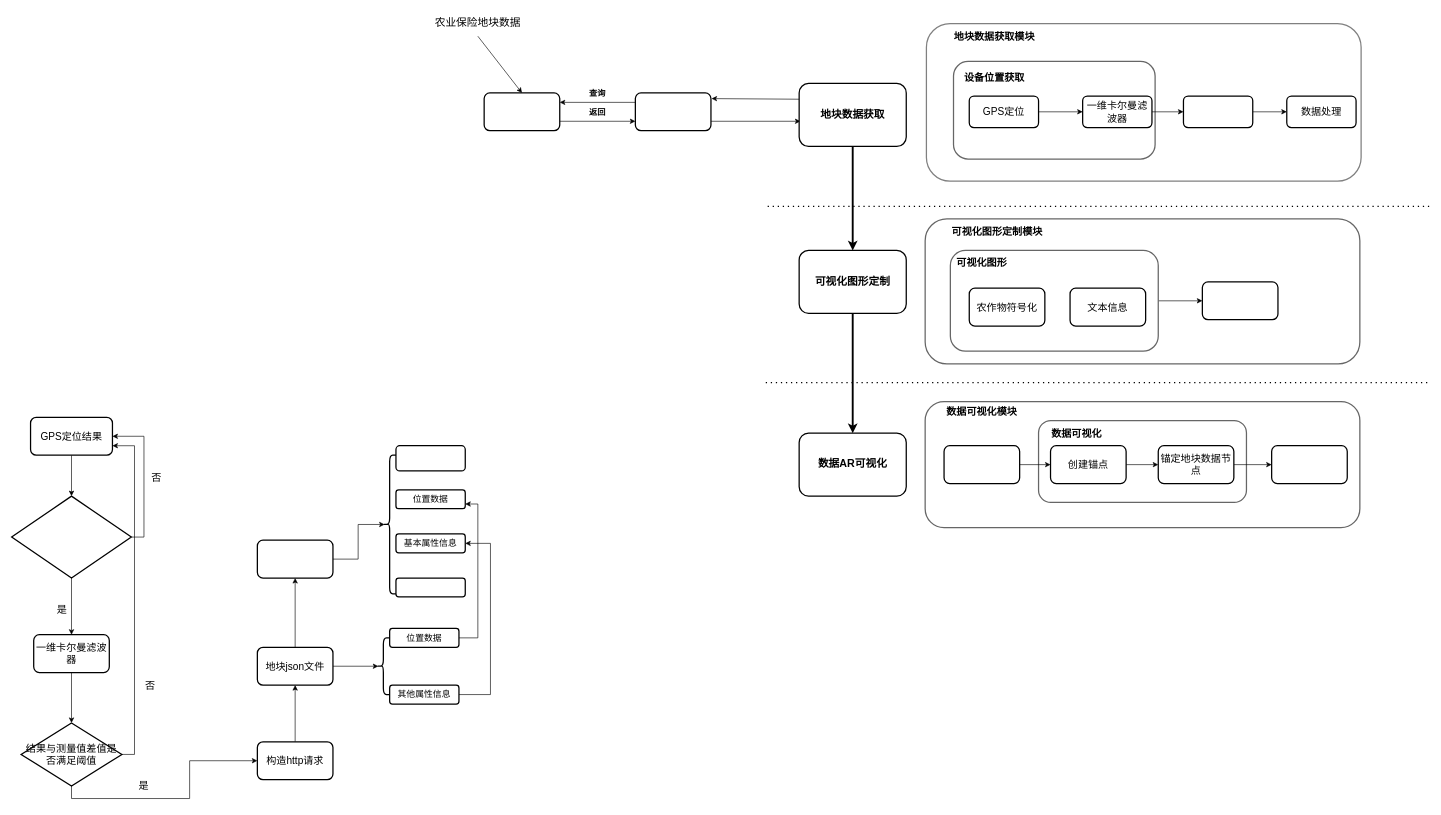
The diagram is 1441 pixels wide and 815 high, and some of its shapes have lost their labels. The centre of each missing label's shape, as x and y in pixels:
"http请求" goes at point (1218, 111).
"位置追踪" goes at point (1309, 464).
"可视化图形表达" goes at point (430, 587).
"定位精度、时间间隔是否满足要求" goes at point (71, 536).
"数据库" goes at point (521, 111).
"服务器" goes at point (672, 111).
"构造地块实体对象" goes at point (294, 558).
"生成布局视图" goes at point (1239, 300).
"表示地块数据的Sceneform节点" goes at point (430, 458).
"设备姿态解算" goes at point (981, 464).
